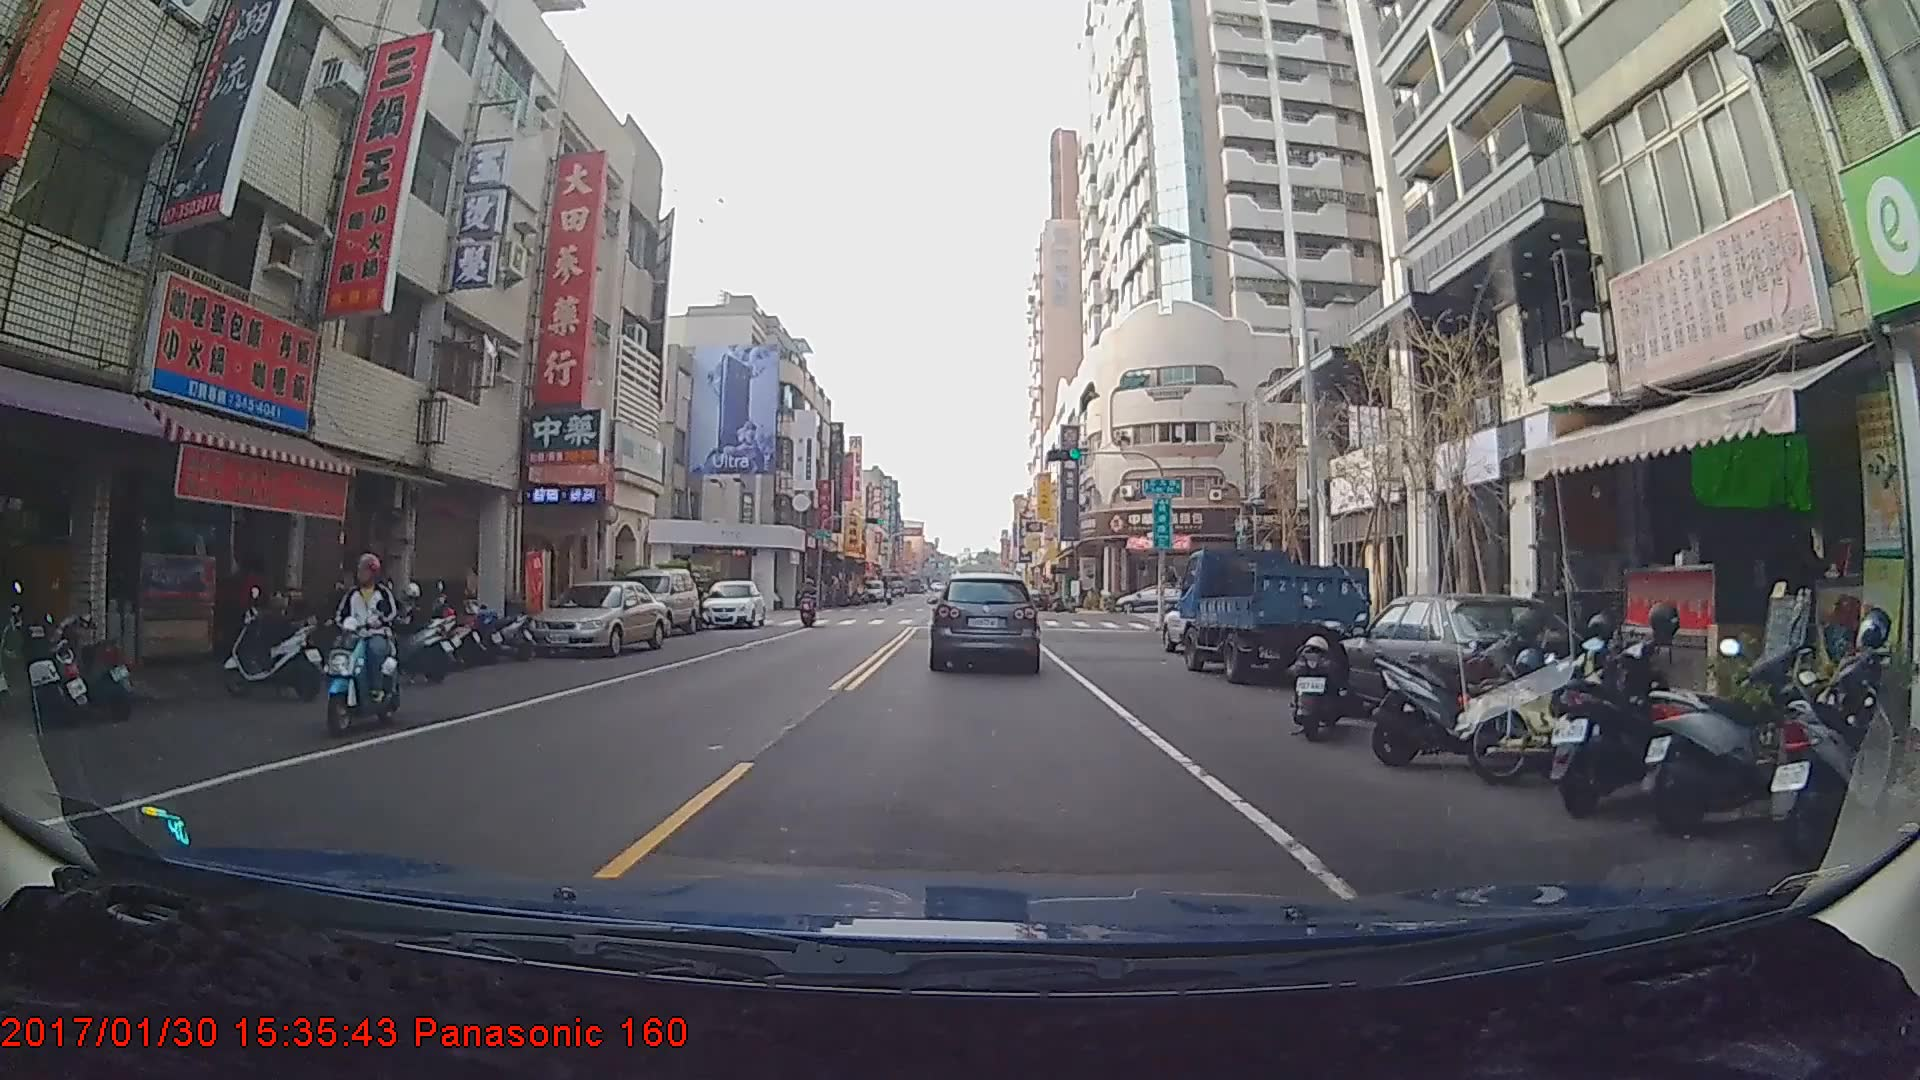rider: (316, 547, 410, 733), (798, 578, 821, 626)
vehicle: (1177, 547, 1372, 683), (524, 577, 666, 655), (929, 573, 1040, 671), (608, 563, 702, 637), (701, 578, 765, 629), (1116, 580, 1191, 612), (860, 577, 885, 600)
